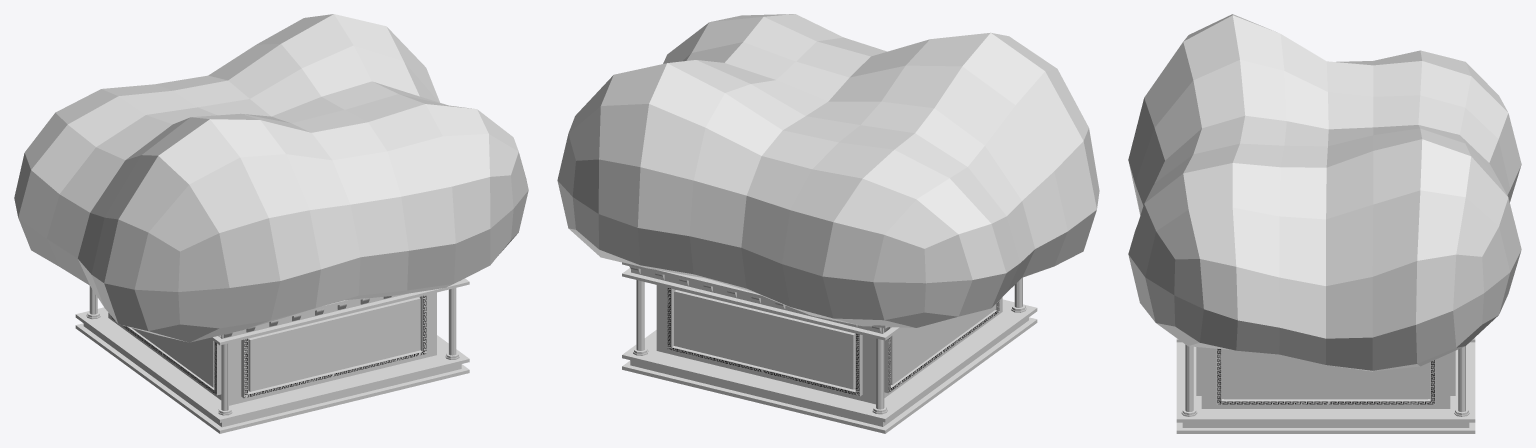
Rendered from MarcadorConNube.fbx.
3 renders of one model, left to right at view 1: azimuth 30°, elevation 25°; view 2: azimuth 150°, elevation 25°; view 3: azimuth 270°, elevation 25°, orthographic. The views are drawn at different scales.
Visible parts, largest first — view 1: ScoreBoard; view 2: ScoreBoard; view 3: ScoreBoard.
Boxes of the visible parts, x1,y1,x2,y2 form: ScoreBoard: (14,14,528,433); ScoreBoard: (557,14,1099,433); ScoreBoard: (1128,14,1521,433).
Size of the model in its own units: 947 by 624 by 738.
